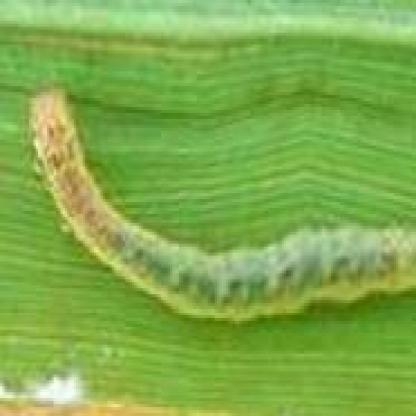leaf-folder: (24, 69, 416, 334)
